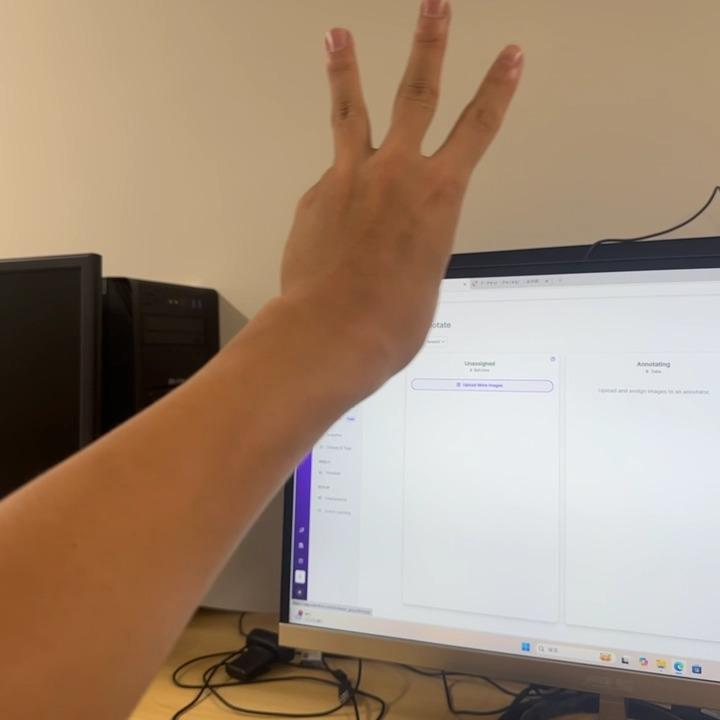without_gloves: (220, 0, 593, 403)
